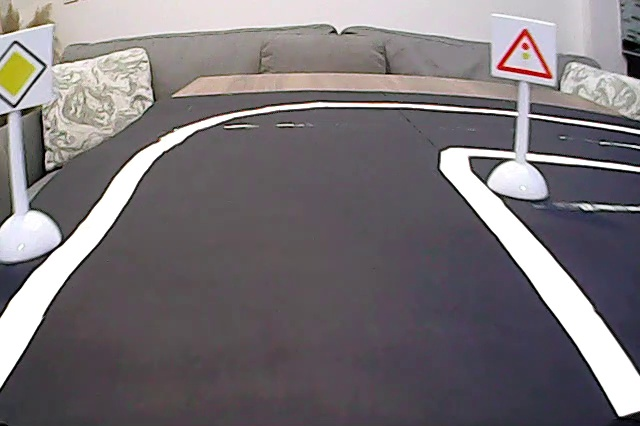red light: (494, 16, 558, 85)
